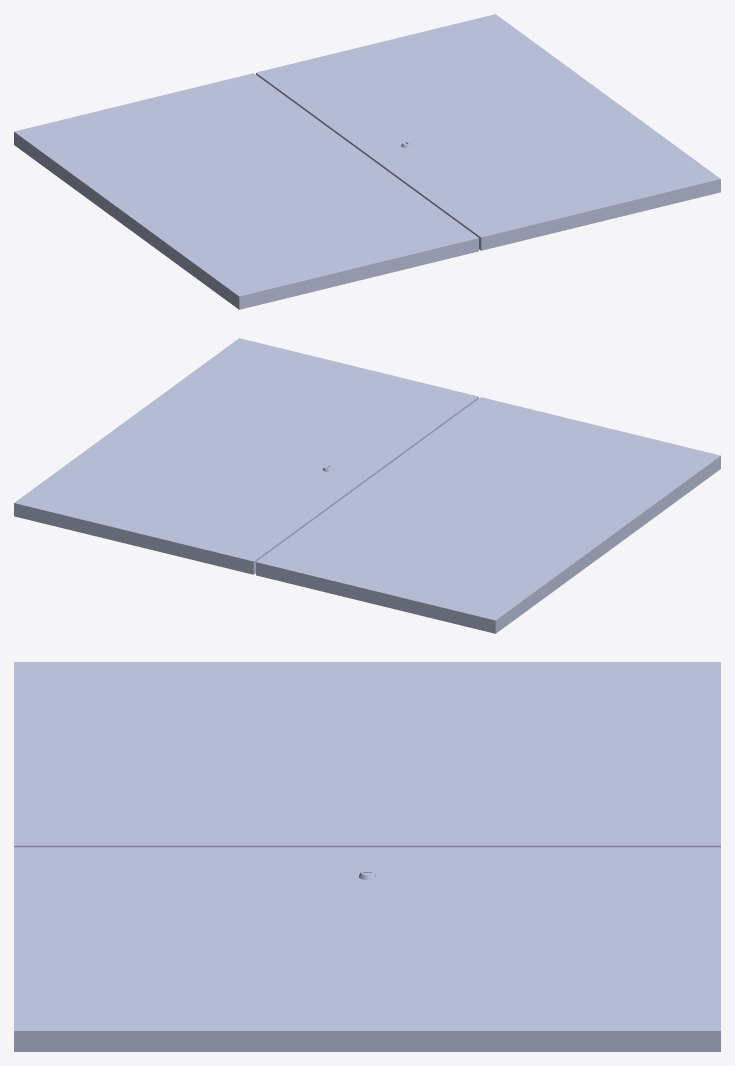
The model's file is Door2 Door base cabinet - 40in..fbx.
3 views of the same model, one above another, from view 1: azimuth 30°, elevation 25°; view 2: azimuth 150°, elevation 25°; view 3: azimuth 270°, elevation 25° (orthographic). The views are drawn at different scales.
Parts seen in each view (by area): view 1: Body_2, Body_1; view 2: Body_2, Body_1; view 3: Body_1, Body_2.
Part boxes in pixels (x1=…): Body_2: x1=14, y1=73, x2=478, y2=309; Body_1: x1=256, y1=14, x2=720, y2=250; Body_2: x1=256, y1=397, x2=720, y2=633; Body_1: x1=14, y1=338, x2=478, y2=574; Body_1: x1=14, y1=847, x2=720, y2=1051; Body_2: x1=14, y1=662, x2=720, y2=847.
Size of the model in its own units: 0.9612 by 0.7788 by 0.0305.
